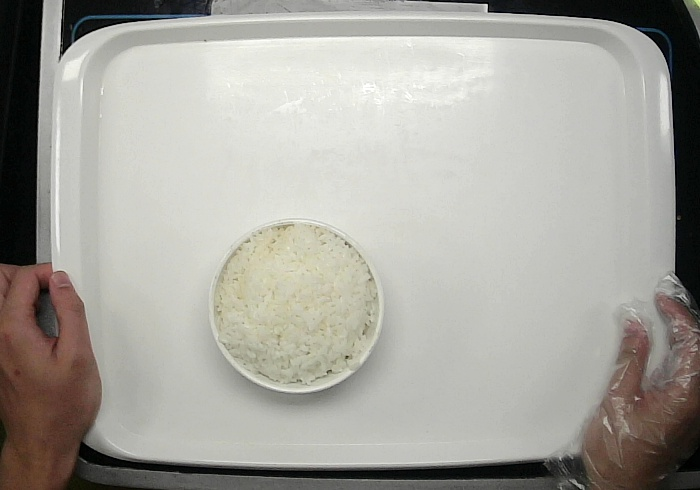HZYJPL-Fan_Wan: (205, 215, 387, 394)
